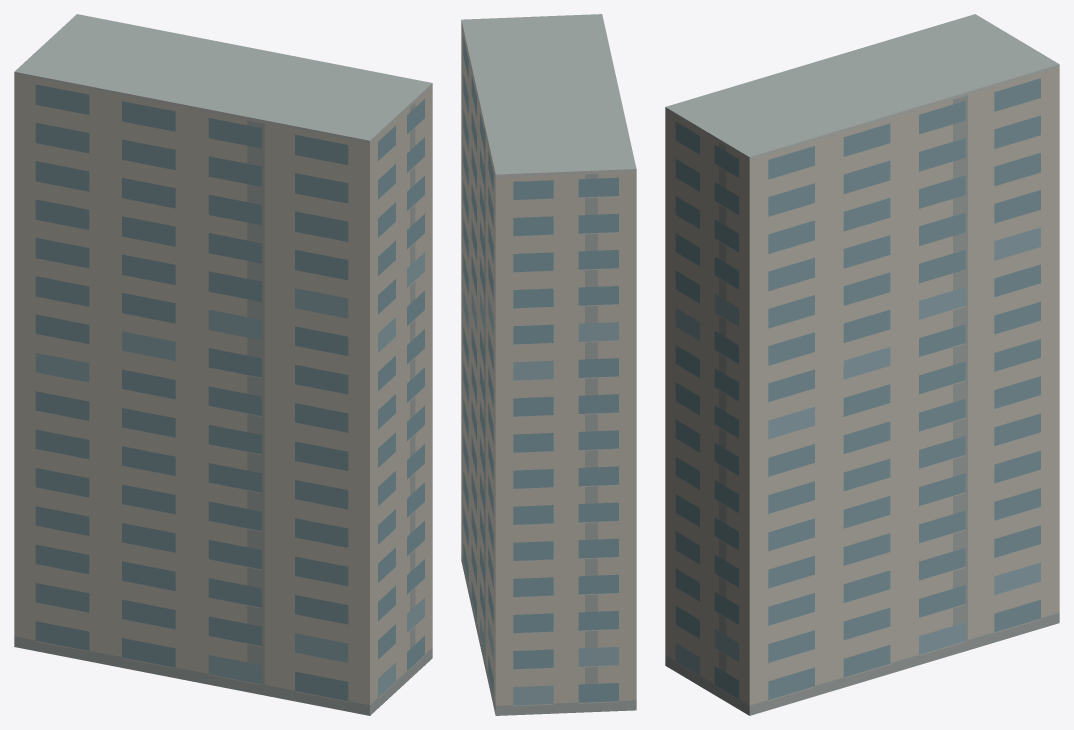
The model's file is residential-d77b5dbf-868c-4806-a096-dccb700f5fa8.glb.
The picture shows the model from 3 angles, left to right: view 1: azimuth 30°, elevation 25°; view 2: azimuth 150°, elevation 25°; view 3: azimuth 270°, elevation 25°; orthographic projection. The views are drawn at different scales.
Parts seen in each view (by area): view 1: residential-d77b5dbf-868c-4806-a096-dccb700f5fa8.tmp; view 2: residential-d77b5dbf-868c-4806-a096-dccb700f5fa8.tmp; view 3: residential-d77b5dbf-868c-4806-a096-dccb700f5fa8.tmp.
Boxes of the visible parts, x1=… form: residential-d77b5dbf-868c-4806-a096-dccb700f5fa8.tmp: x1=14, y1=14, x2=432, y2=715; residential-d77b5dbf-868c-4806-a096-dccb700f5fa8.tmp: x1=461, y1=14, x2=636, y2=715; residential-d77b5dbf-868c-4806-a096-dccb700f5fa8.tmp: x1=665, y1=14, x2=1059, y2=715.
Bounding box in the file's own units: 22 × 40 × 25.6.
